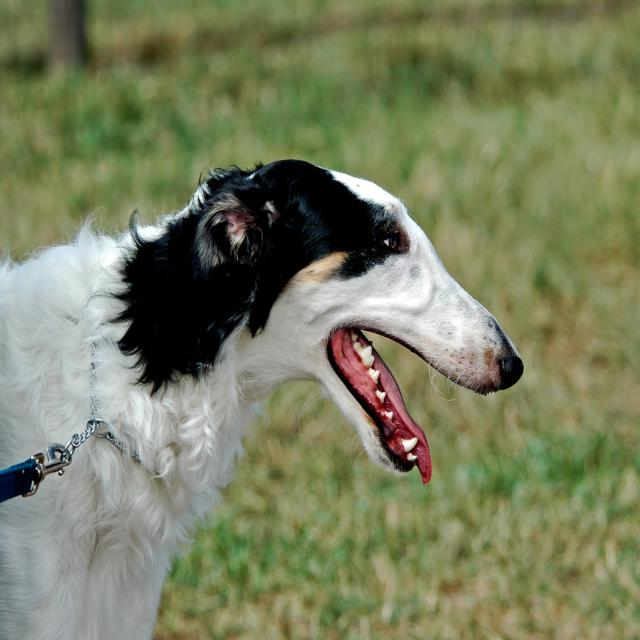dog: (115, 81, 544, 538)
